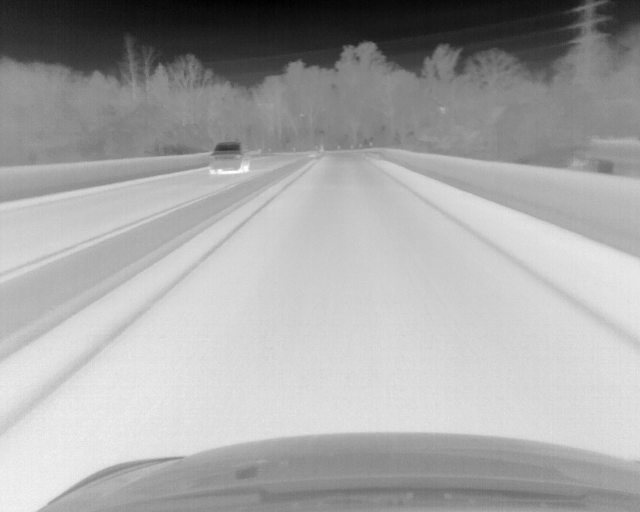car: (210, 139, 251, 173)
